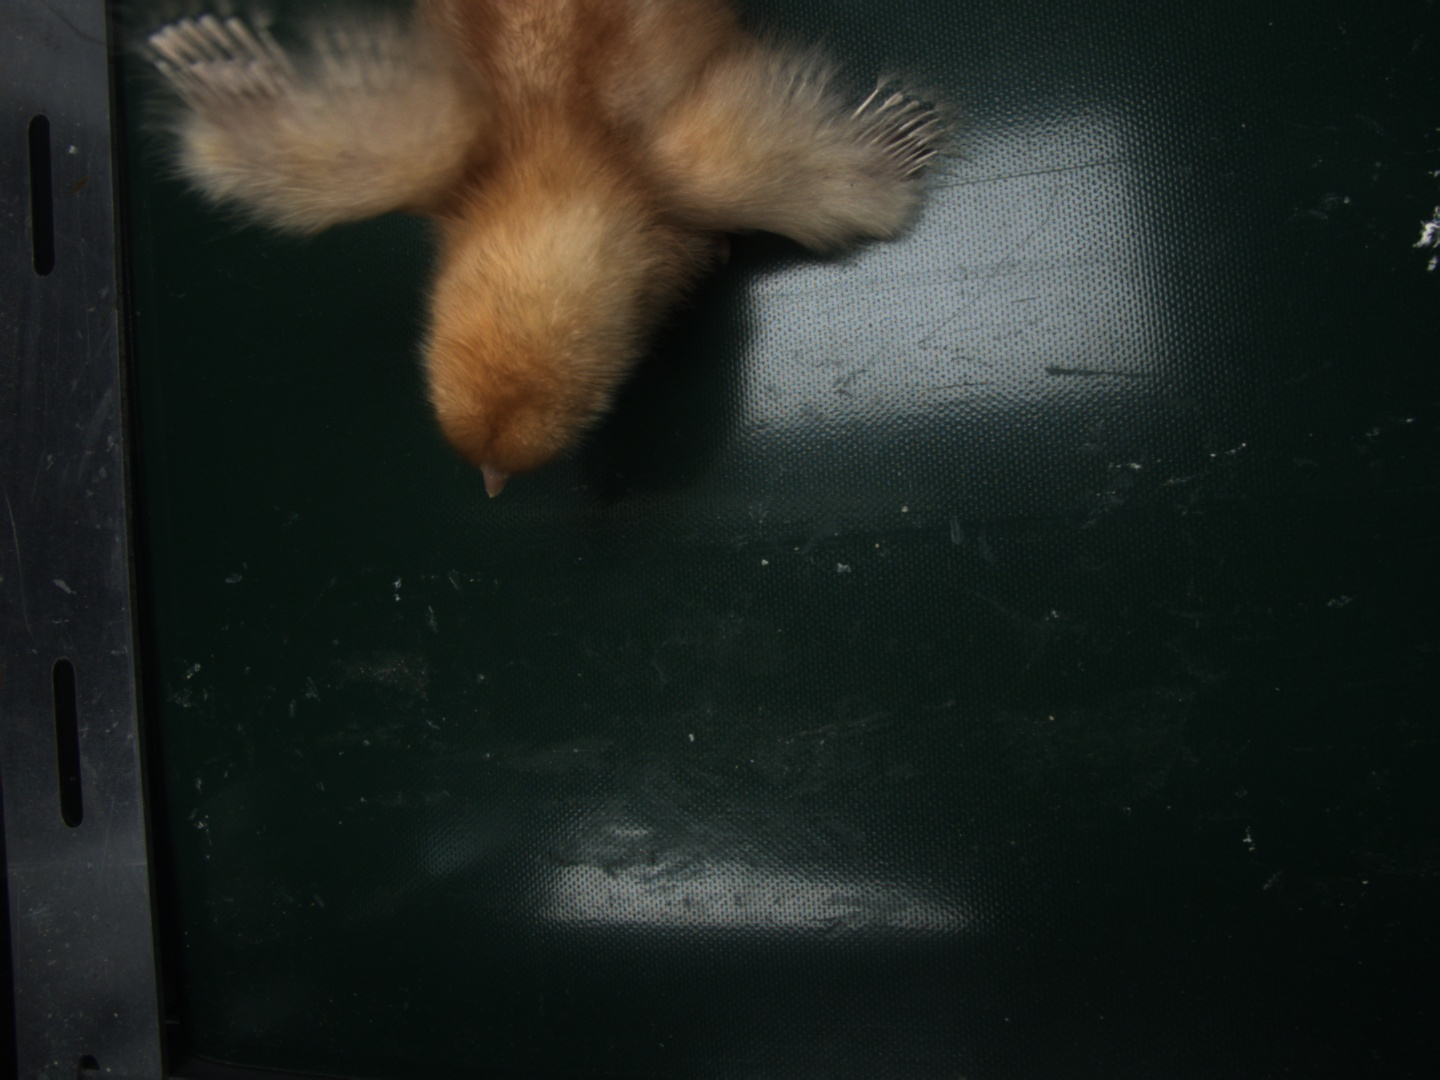female: (842, 82, 942, 178)
